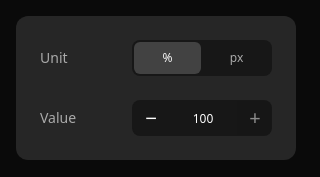
Test: App Component › should update to 100 when switching from px to % with value > 100
This screenshot has width=320, height=177.
Click the button "px".
click(236, 58)  # box 203,42 -> 270,74
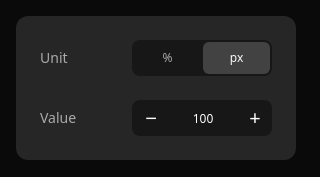
Replace the text in the field with "200" at (203, 118), box 169,100 -> 237,136
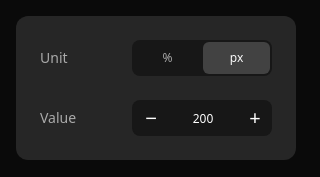
Click the button "%".
click(168, 58)  # box 134,42 -> 201,74
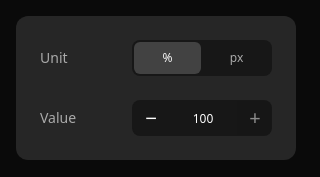
expect the field holds "100": met, box 169,100 -> 237,136
